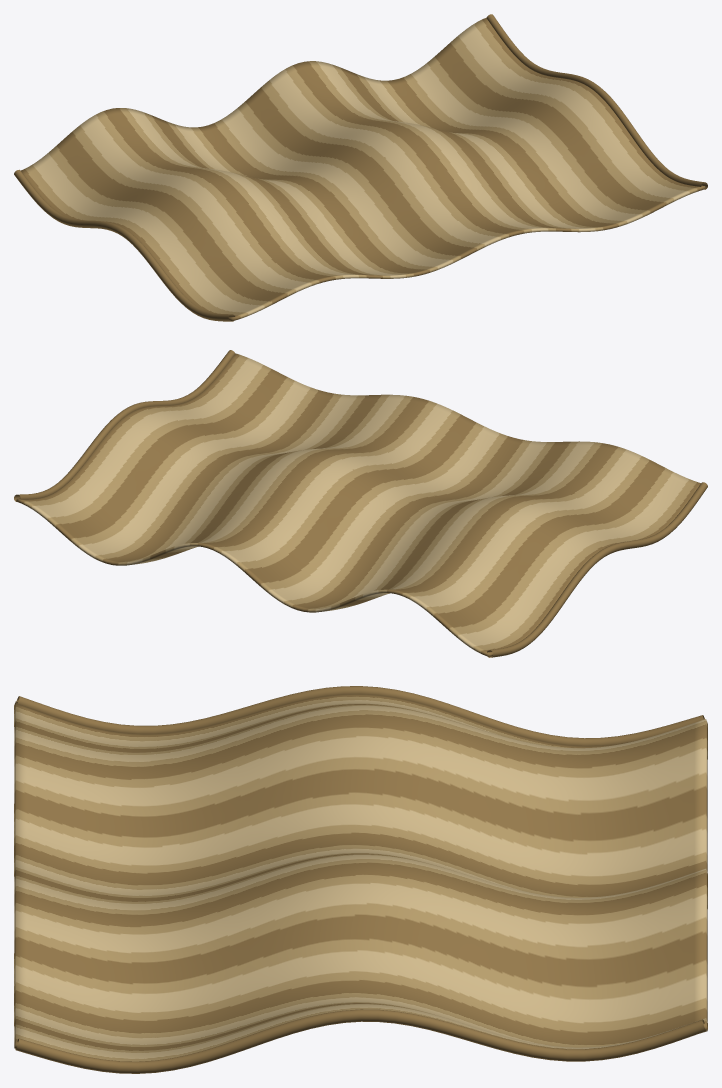
File: woven-mat.glb
The picture shows the model from 3 angles, top to bottom: view 1: azimuth 30°, elevation 25°; view 2: azimuth 150°, elevation 25°; view 3: azimuth 270°, elevation 25°; orthographic projection. The views are drawn at different scales.
Parts seen in each view (by area): view 1: Natural fibre weave, Bound textile edge, Bound textile edge.001; view 2: Natural fibre weave, Bound textile edge, Bound textile edge.001; view 3: Natural fibre weave, Bound textile edge.001, Bound textile edge.
Part boxes in pixels (box(x1,y1,x2,y2)): Natural fibre weave: box(20, 17, 705, 320); Bound textile edge: box(14, 169, 234, 321); Bound textile edge.001: box(486, 14, 707, 189); Natural fibre weave: box(16, 353, 700, 656); Bound textile edge: box(487, 482, 707, 657); Bound textile edge.001: box(14, 350, 235, 501); Natural fibre weave: box(14, 694, 707, 1061); Bound textile edge.001: box(15, 1009, 706, 1073); Bound textile edge: box(16, 686, 704, 745).
Size of the model in its own units: 3.14 by 0.4272 by 2.46.
Materials: 1 (1 with a texture image).
